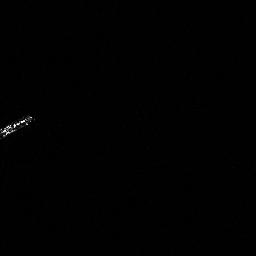ship: (1, 110, 37, 141)
